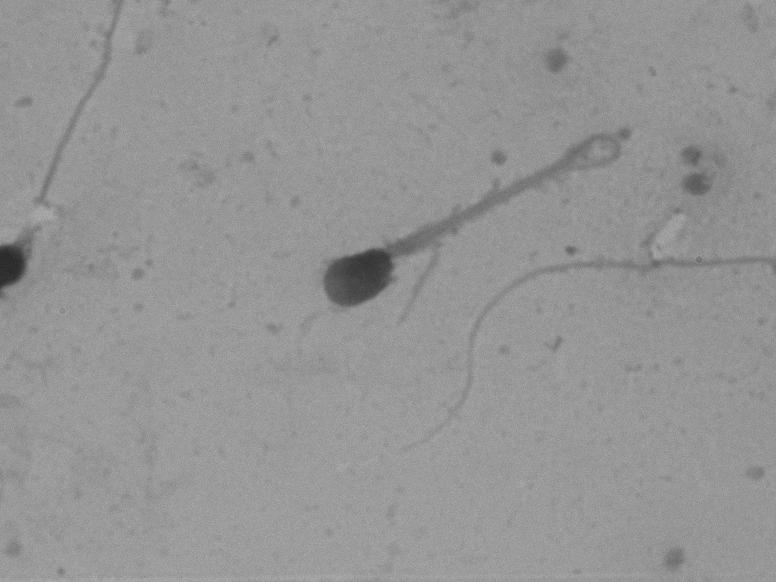Abnormal: (269, 76, 625, 349)
